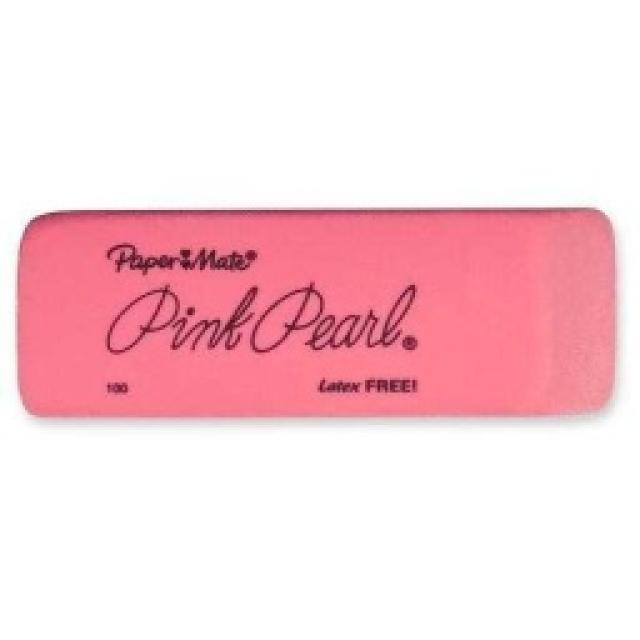Silgi: (14, 207, 616, 419)
